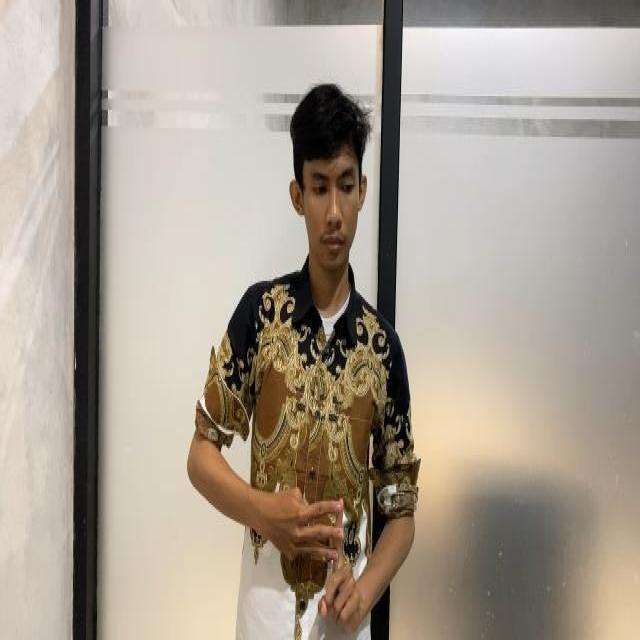B: (282, 489, 368, 627)
